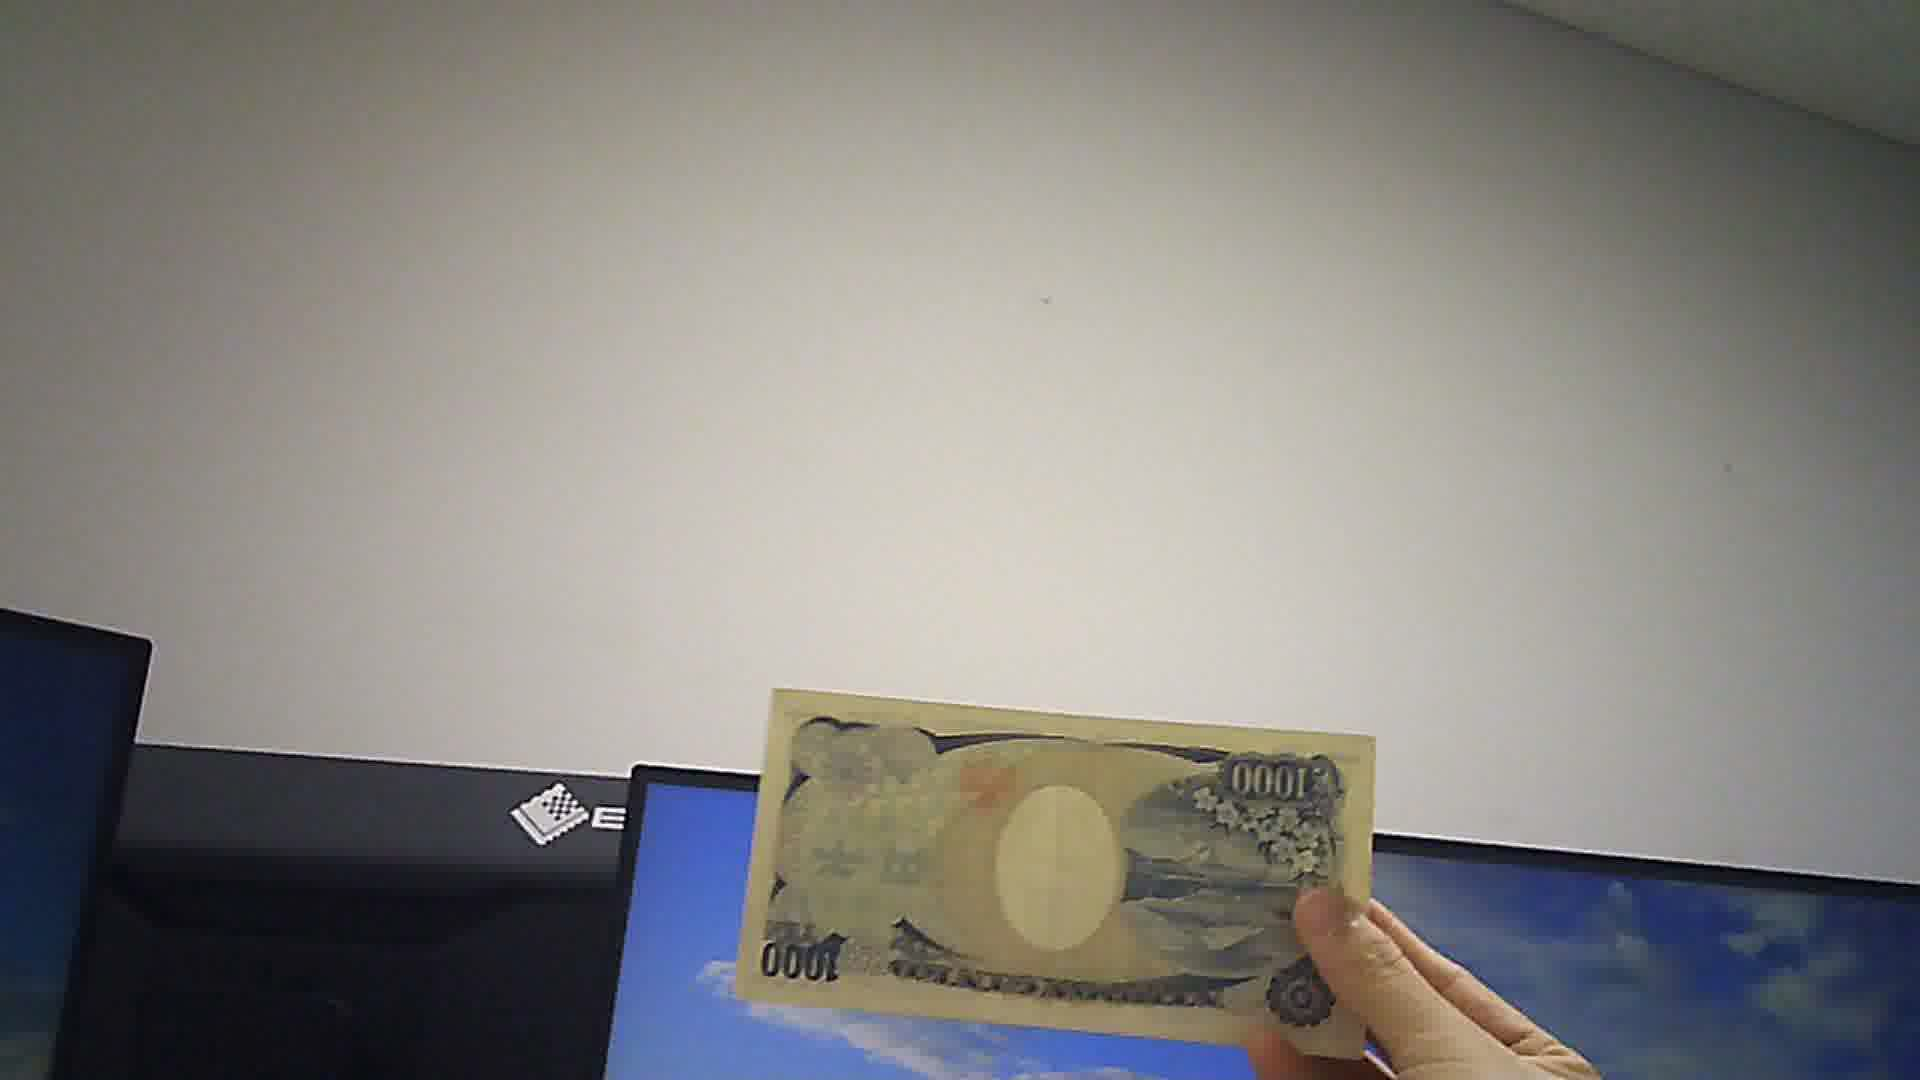1,000 Yen: (742, 663, 1364, 1062)
